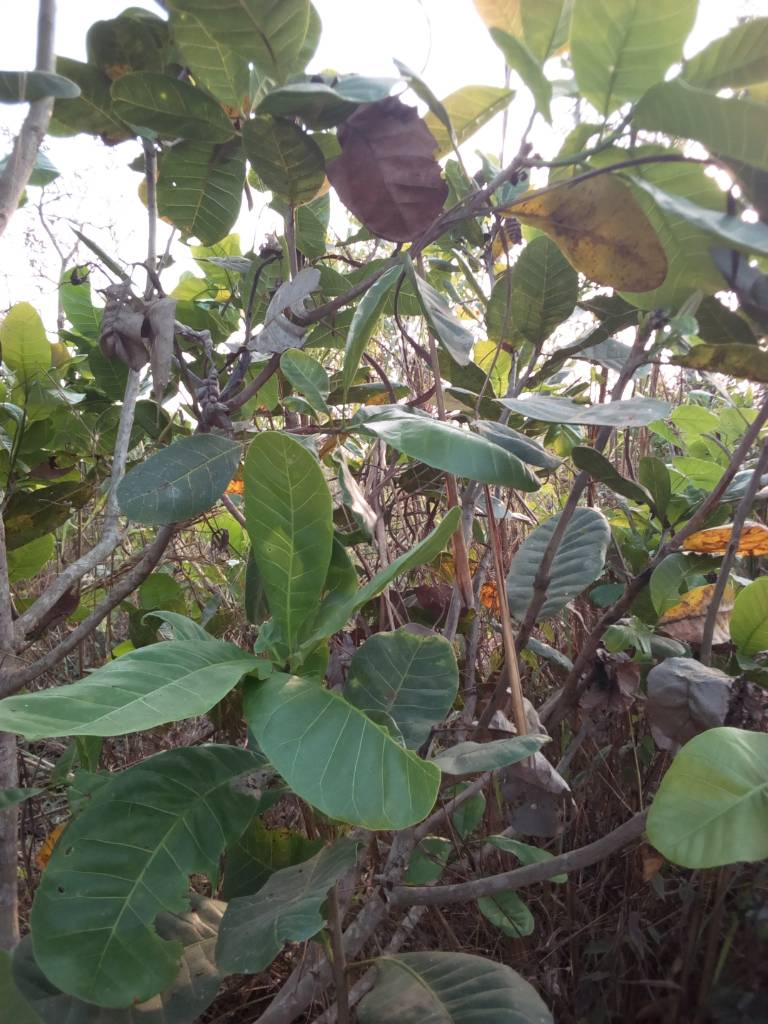Dessèchement des bourgeons: (104, 272, 180, 385), (564, 635, 663, 721)
